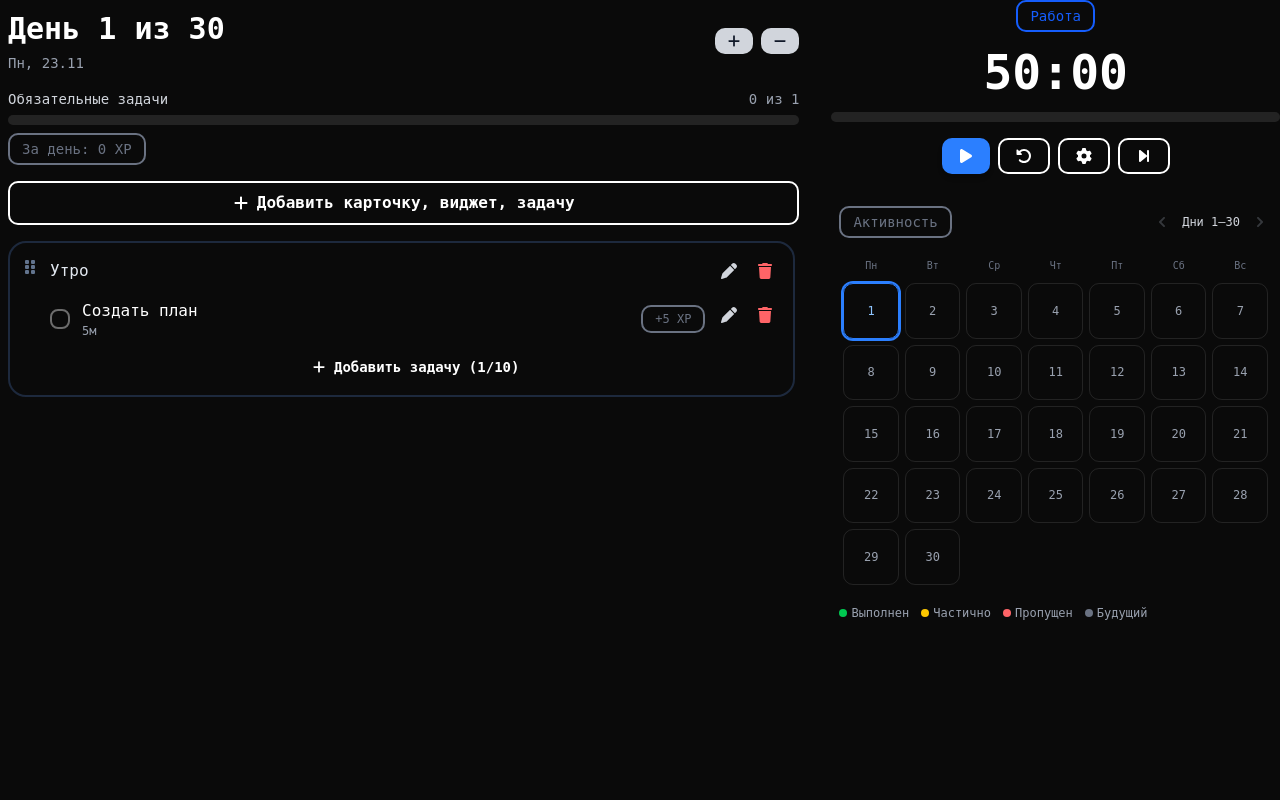
страница «Сегодня» › отметка стартовой задачи сохраняется и начисляет XP
Click the checkbox labelled "Создать план 5м +5 XP" at (140, 311), box [50,299,705,339]
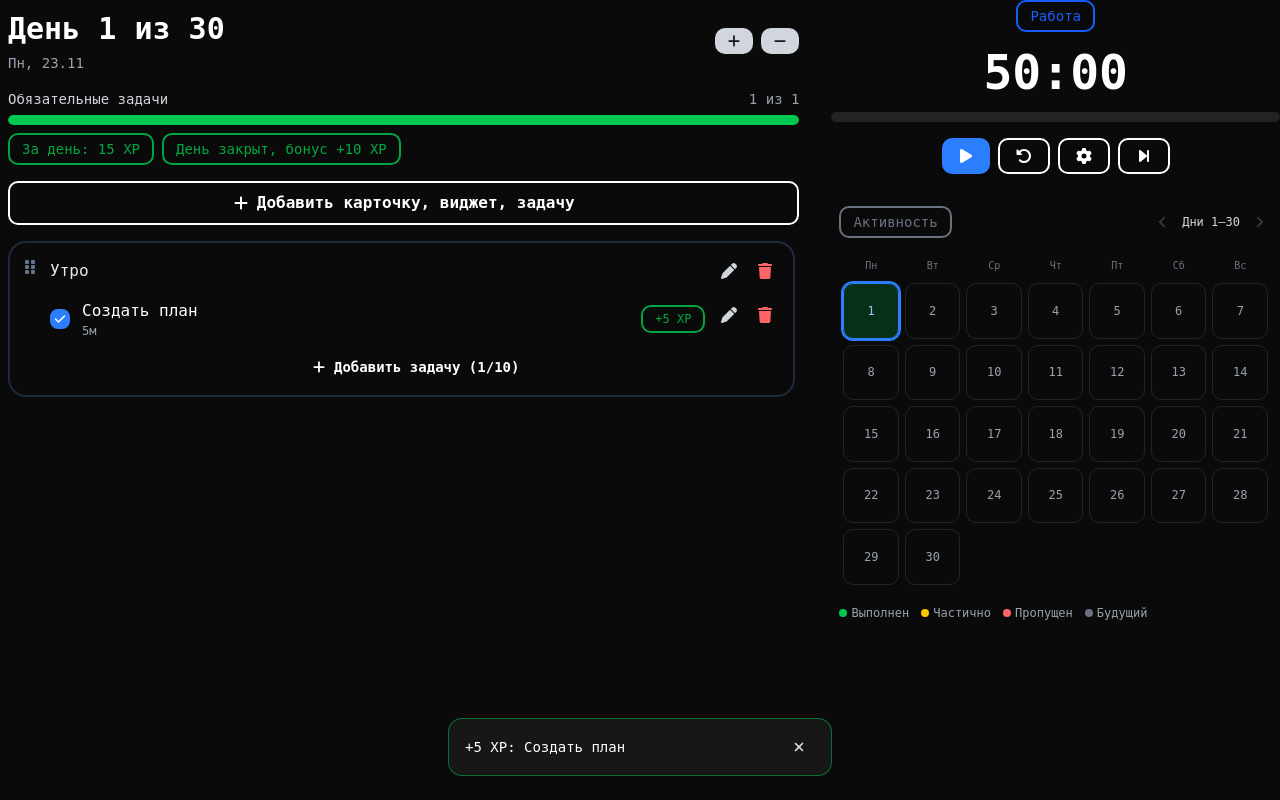
Expected: the text "За день: 15 XP" is shown, [8,133,154,165]
